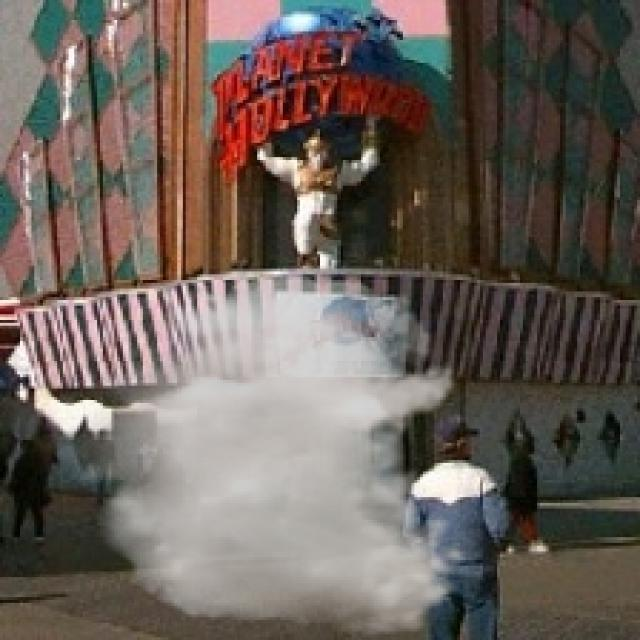Smoke: (46, 274, 472, 637)
